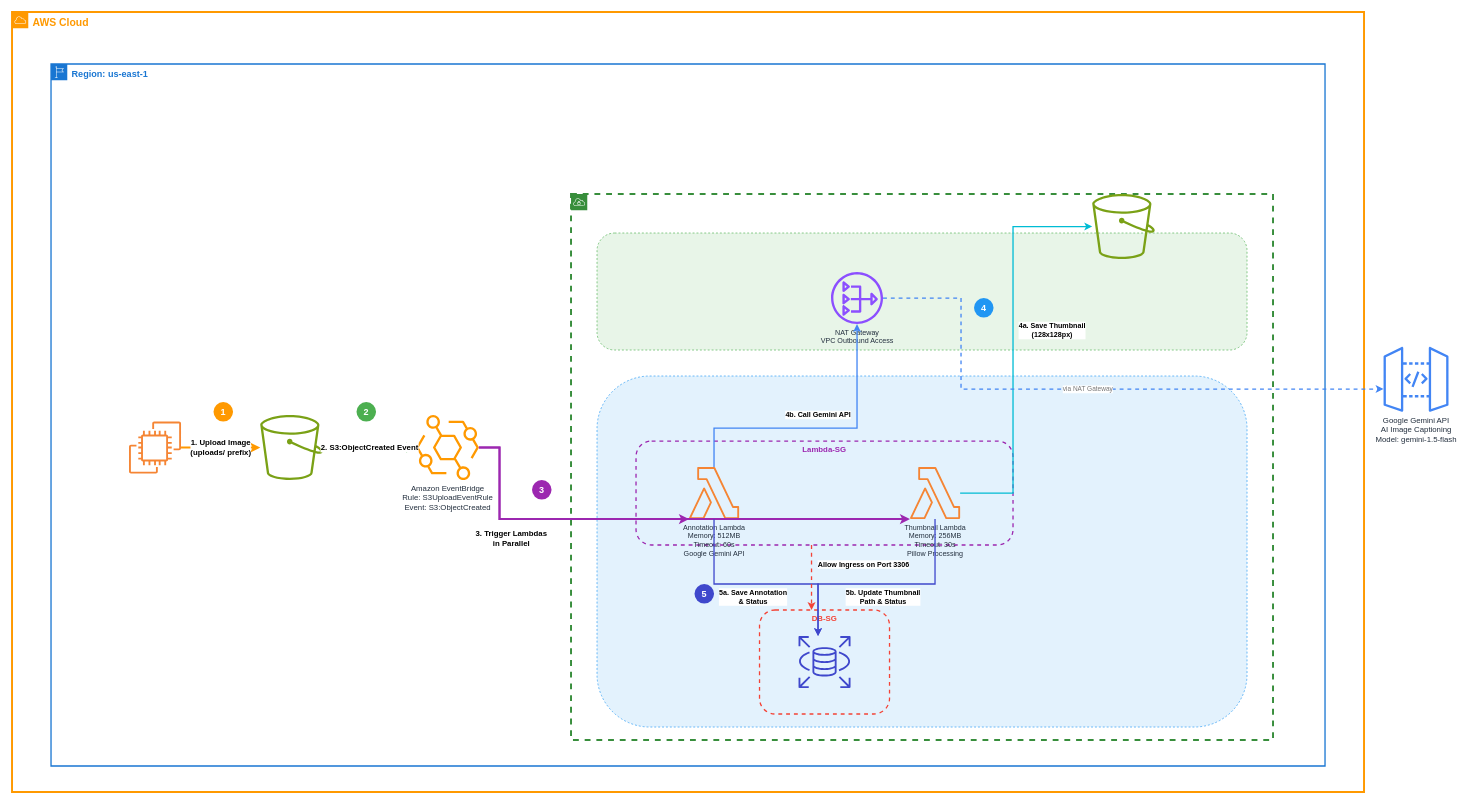
Some shapes in this 1468 by 804 pixel diagram are drawn without their labels. Each missing label, with the box of its shape:
Private Subnets Area: (596, 375, 1247, 727)
Public Subnets Area: (596, 232, 1247, 350)
RDS MySQL Database Engine: MySQL 8.0.35 Instance: db.t3.micro Port: 3306: (798, 636, 850, 688)
S3 Original Images comp5349a2-original-images EventBridge Enabled: (259, 415, 324, 480)
S3 Thumbnails comp5349a2-thumbnails Generated Images: (1091, 194, 1156, 259)
VPC: comp5349a2-VPC 10.0.0.0/16: (570, 193, 1274, 741)
Web Application Flask on EC2: (129, 421, 181, 473)
